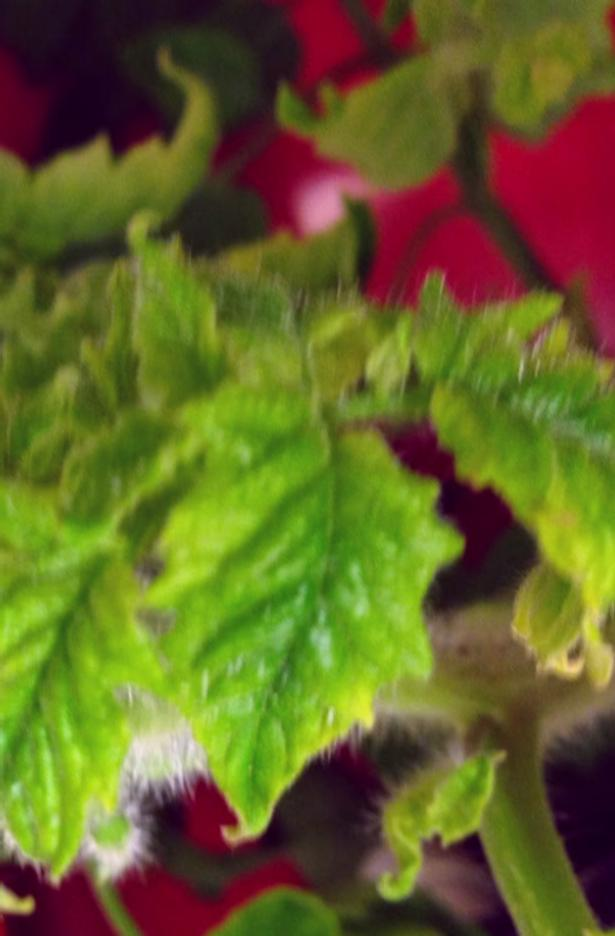Tomato leaf yellow virus: (176, 343, 474, 859), (427, 278, 615, 722), (0, 447, 157, 936)
